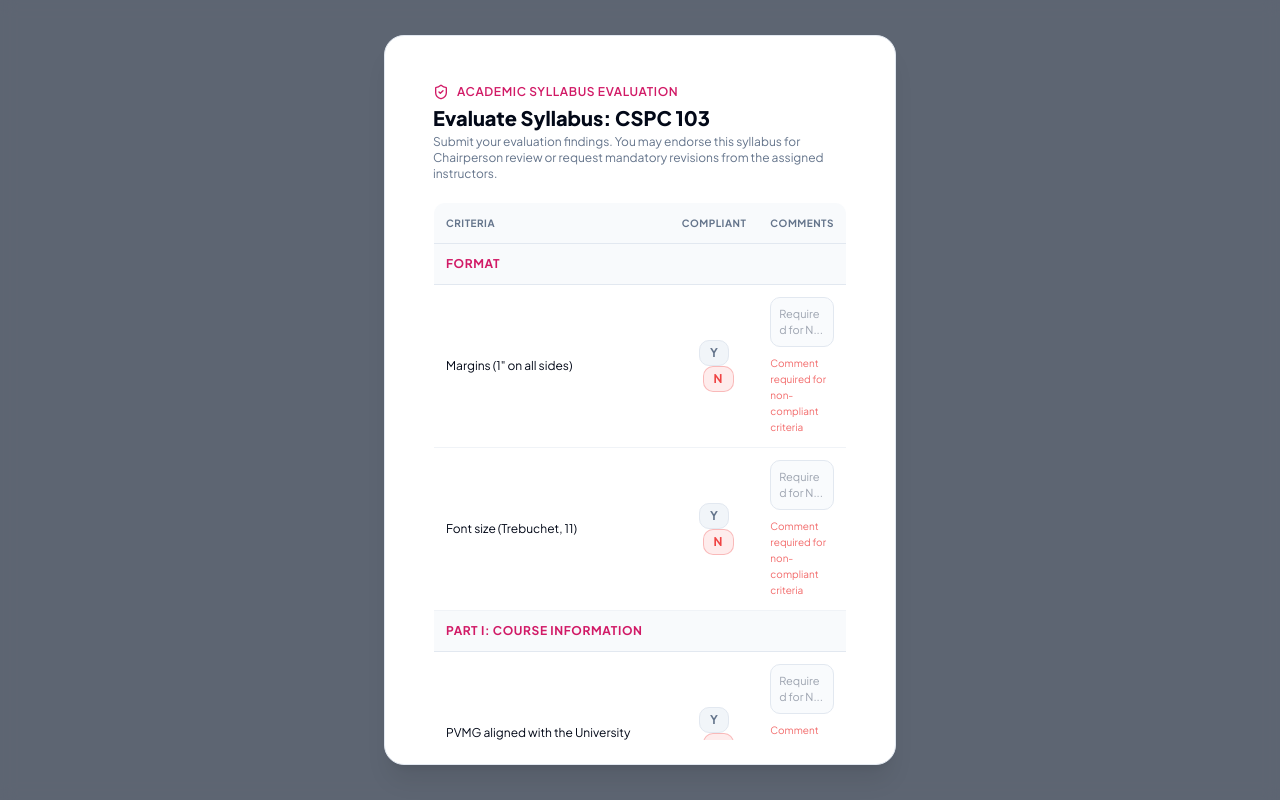
Test: EvaluatorReviewModal › blocks submit when an N criterion lacks a comment
Click the button "Y" next to "Margins (1\" on all sides)": (714, 353) top-left (699, 340), bottom-right (729, 366)
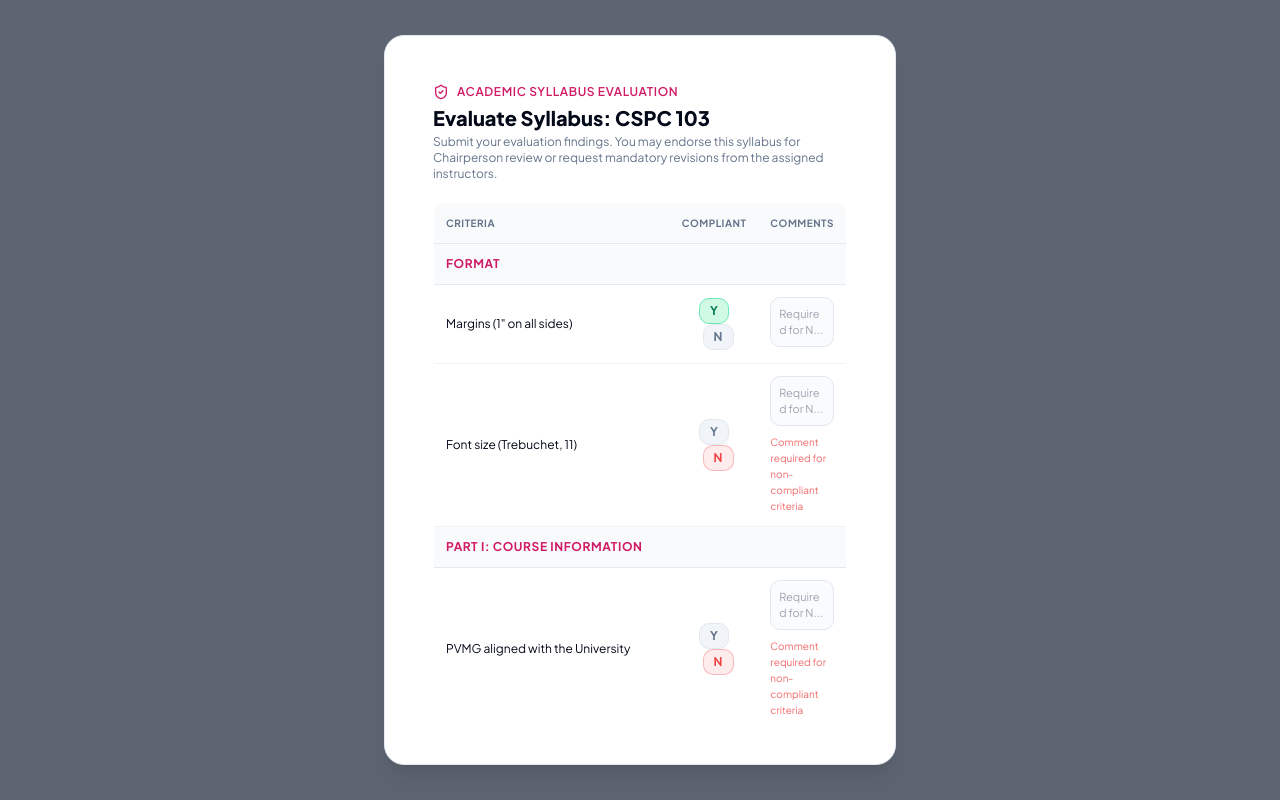
Click the button "Y" next to "Font size (Trebuchet, 11)": (714, 432) top-left (699, 419), bottom-right (729, 445)
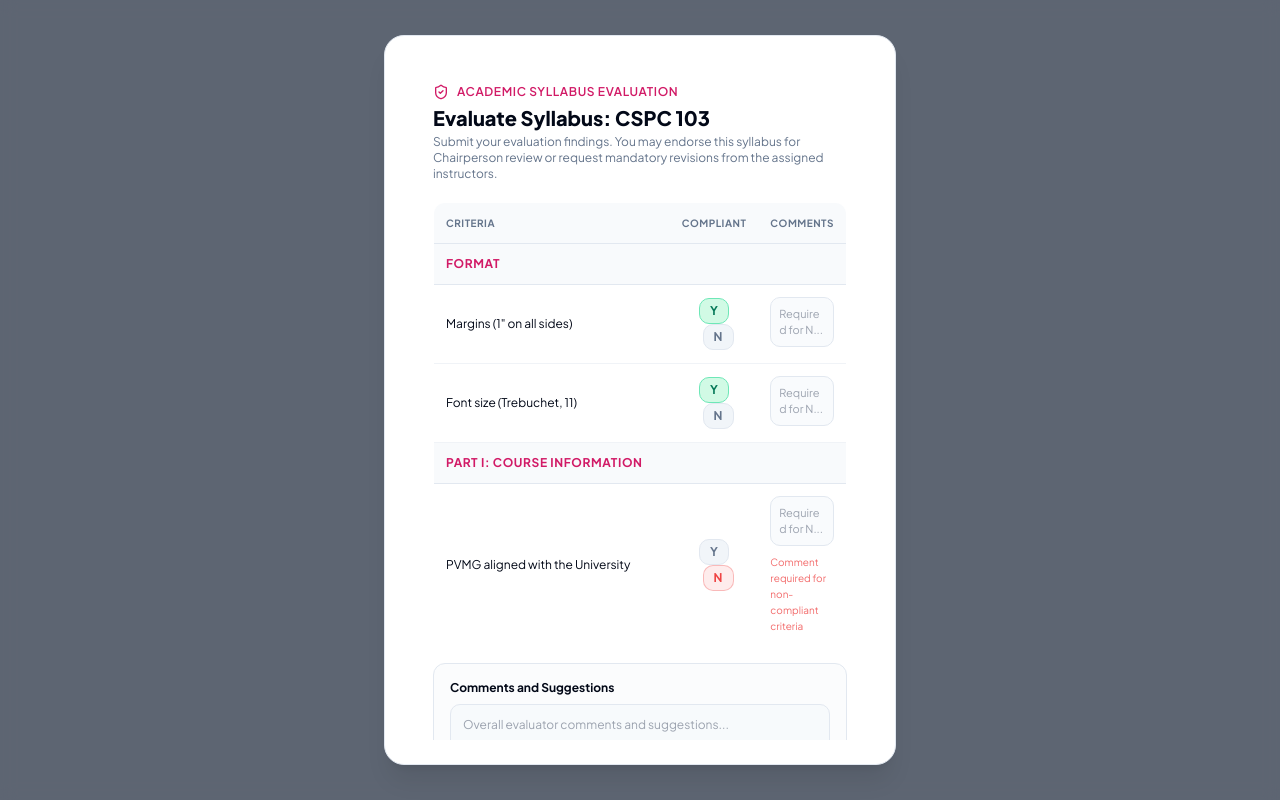
Click the button "Y" next to "PVMG aligned with the University": (714, 552) top-left (699, 539), bottom-right (729, 565)
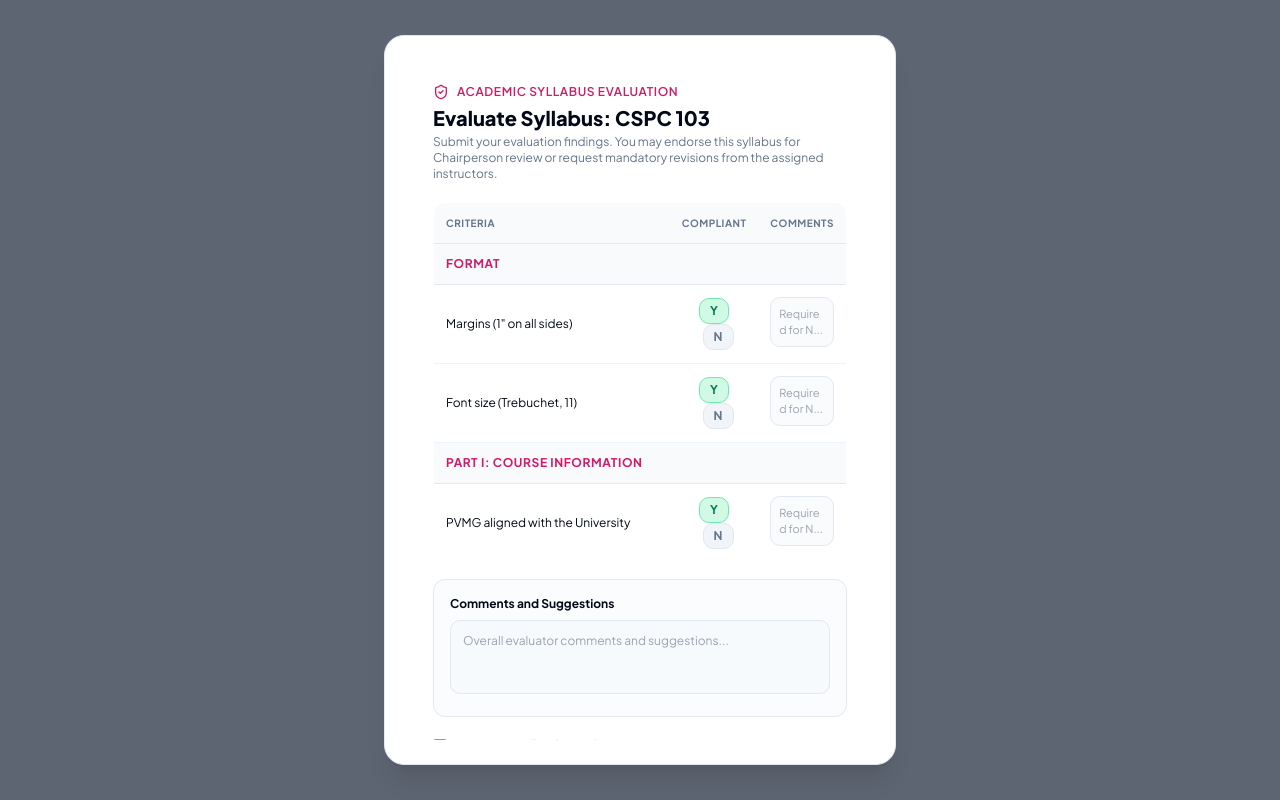
Click the button "N" next to "Margins (1\" on all sides)": (718, 337) top-left (703, 324), bottom-right (734, 350)
(page scrolled)
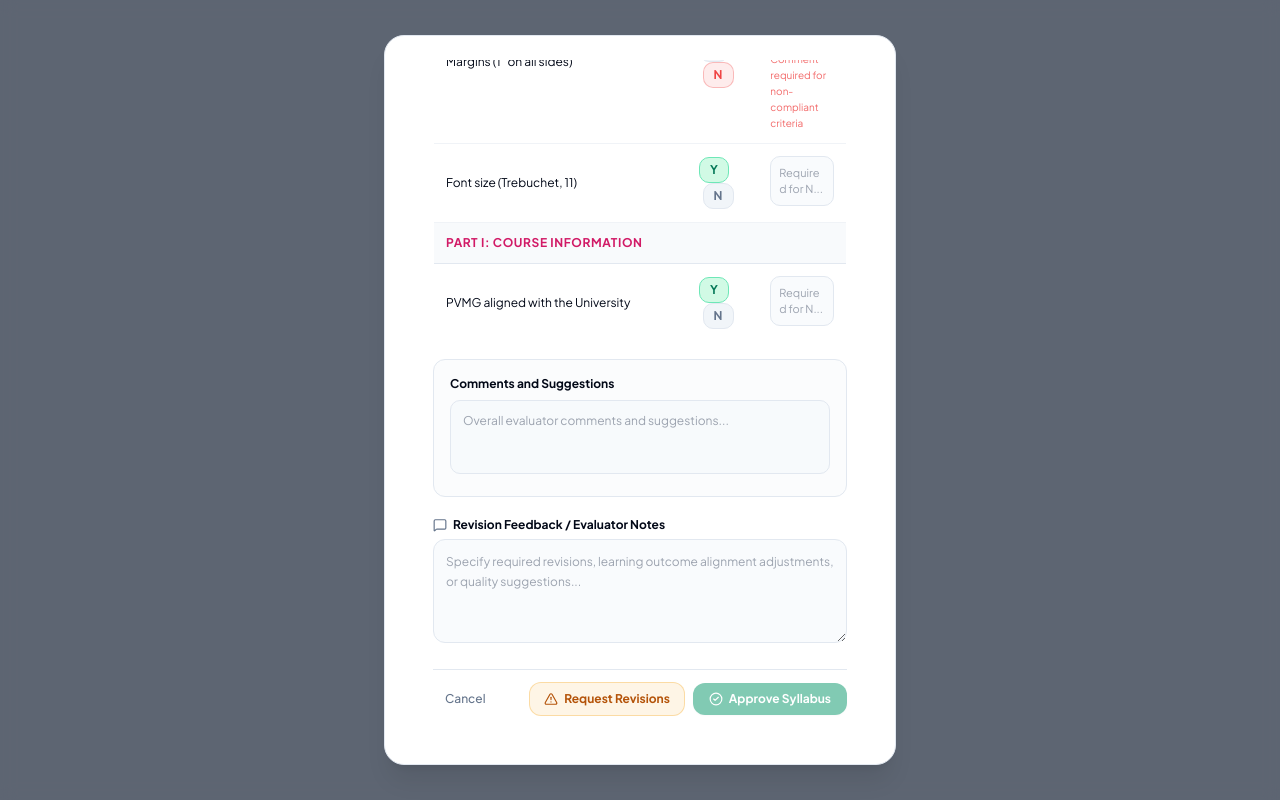
Replace the text in the text box with placeholder "Specify required revisions" with "Needs fixes": (640, 591) top-left (433, 539), bottom-right (847, 643)
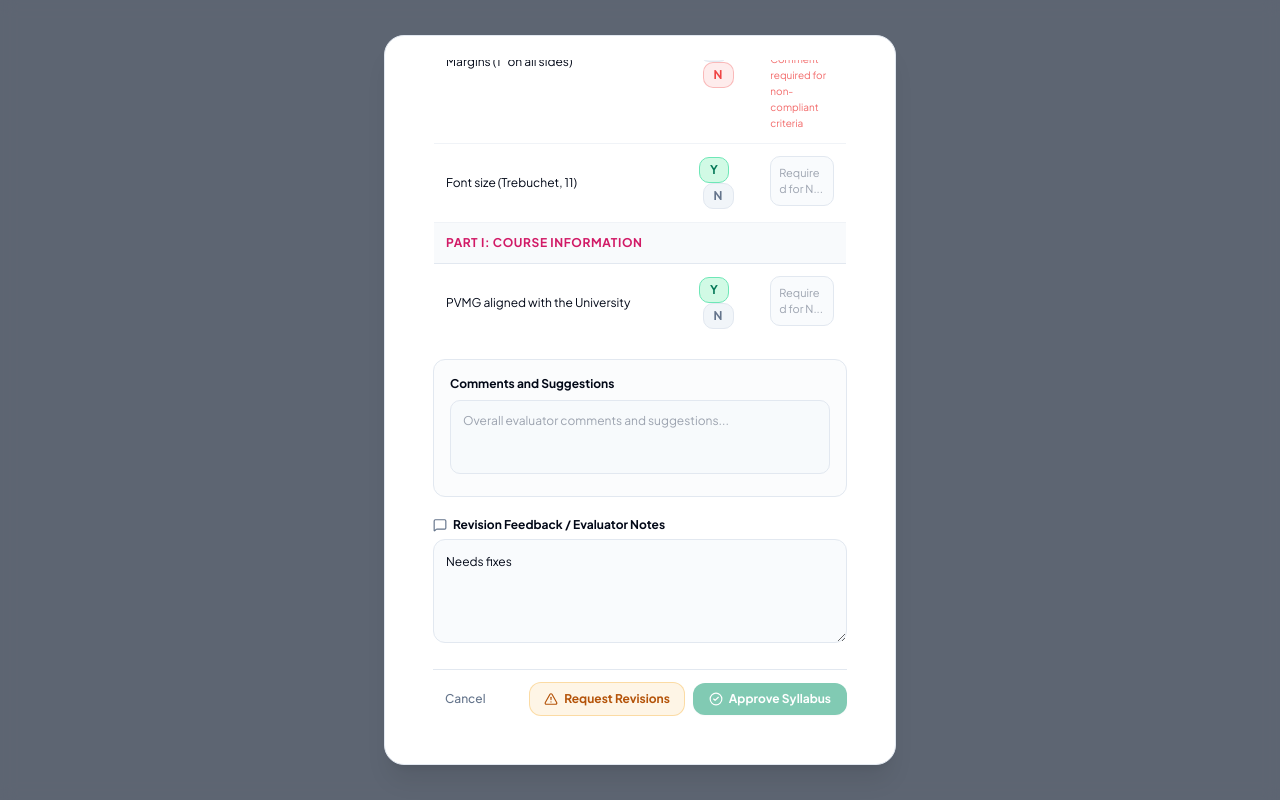
Click the button "Request Revisions": (607, 699) top-left (529, 682), bottom-right (685, 716)
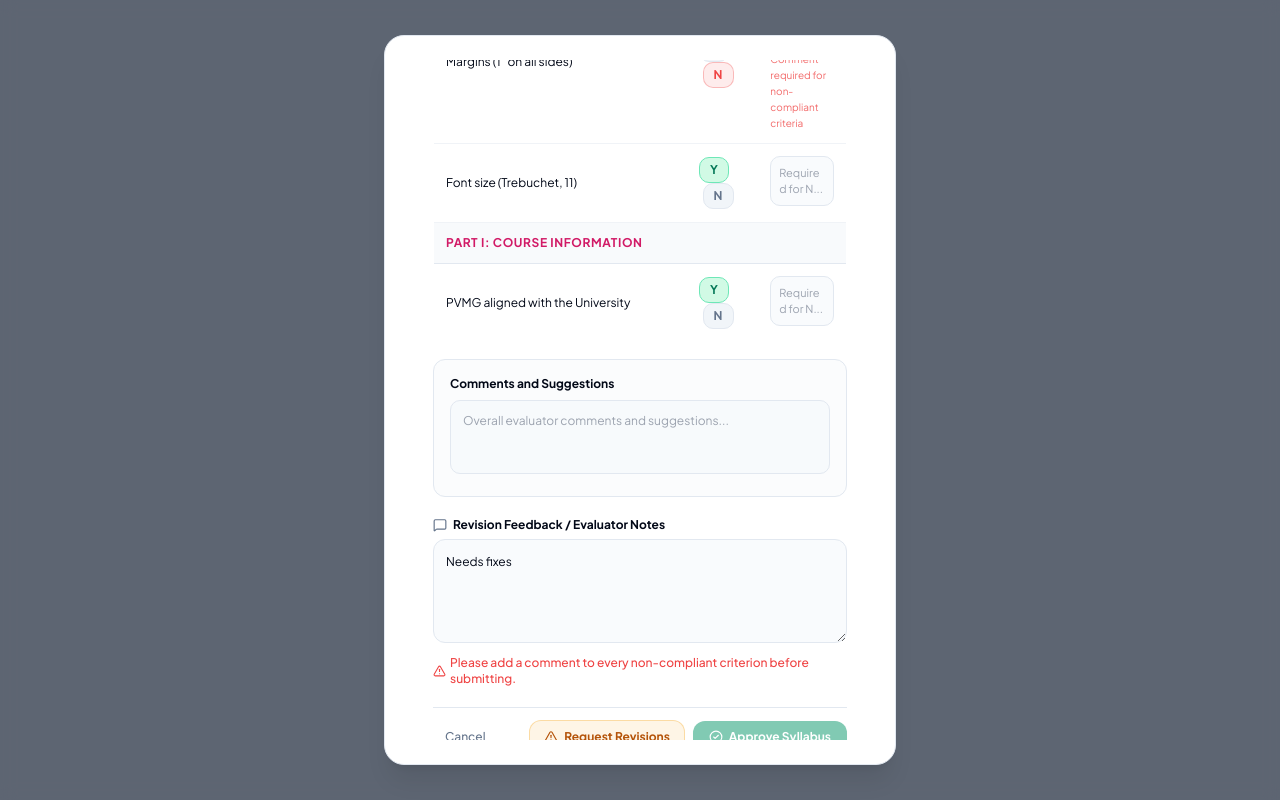
Now the text "comment to every non-compliant criterion" is shown, box top-left (450, 655), bottom-right (809, 686)
